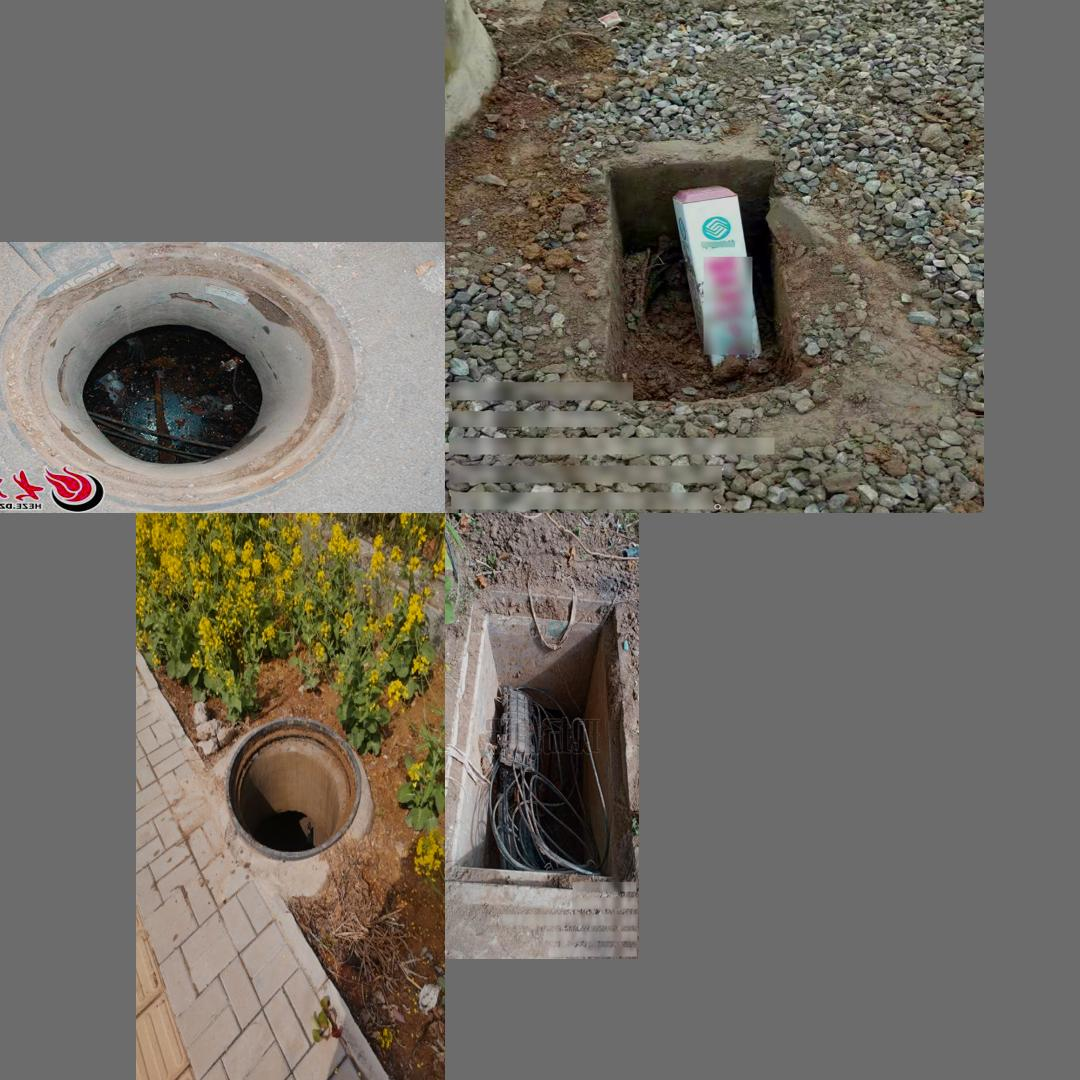lose: (0, 244, 362, 507), (445, 600, 633, 889), (599, 155, 816, 403), (215, 700, 367, 859)
